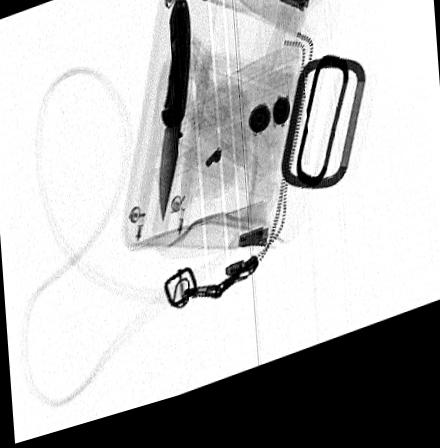Knife: (159, 8, 191, 232)
